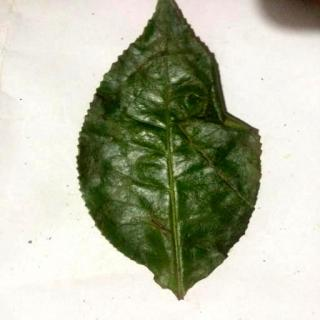Red Leaf Spot: (77, 1, 262, 299)
